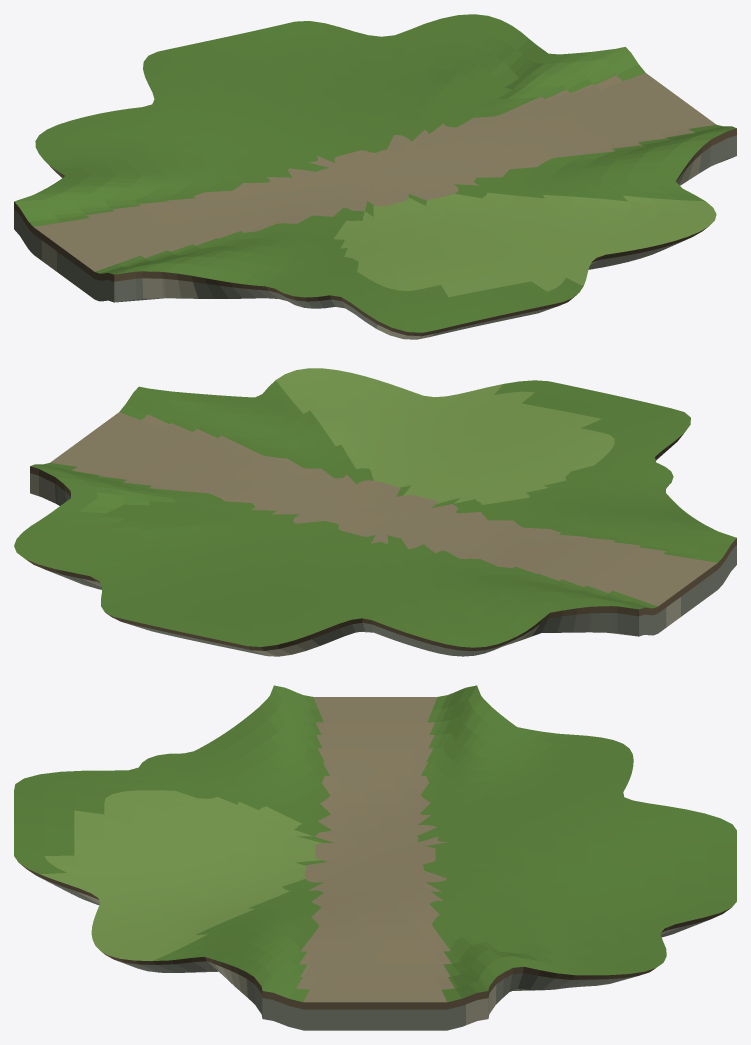
The model's file is crystal_spring_gate_structure.fbx.
3 views of the same model, one above another, from view 1: azimuth 30°, elevation 25°; view 2: azimuth 150°, elevation 25°; view 3: azimuth 270°, elevation 25° (orthographic). The views are drawn at different scales.
Parts seen in each view (by area): view 1: chunk_crystal_spring_gate; view 2: chunk_crystal_spring_gate; view 3: chunk_crystal_spring_gate.
Part boxes in pixels (box(x1,y1,x2,y2)): chunk_crystal_spring_gate: box(14, 14, 736, 339); chunk_crystal_spring_gate: box(14, 368, 736, 656); chunk_crystal_spring_gate: box(14, 685, 736, 1030).
Size of the model in its own units: 256 by 41.5 by 256.
